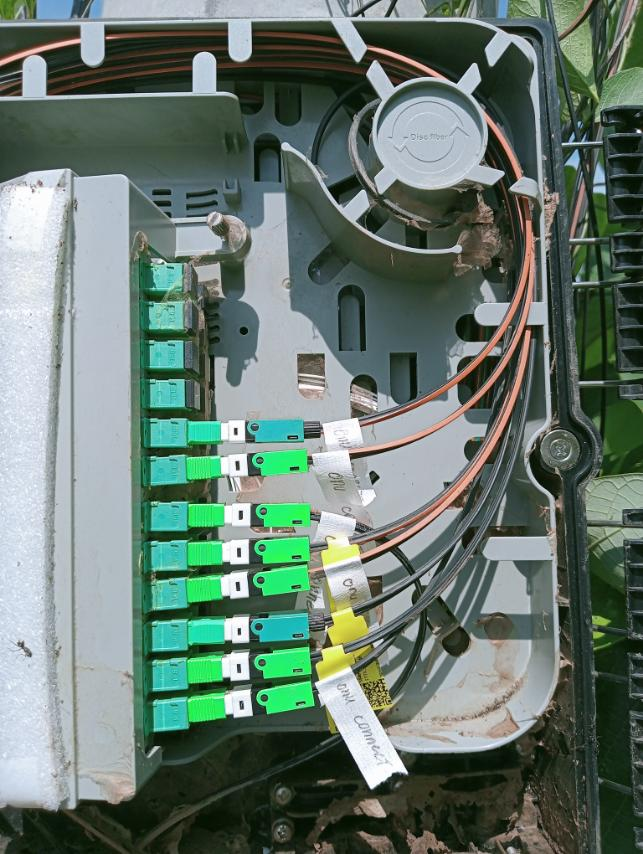occupied: (186, 674, 327, 728), (185, 644, 324, 688), (187, 609, 339, 649), (185, 562, 319, 606), (186, 534, 320, 569), (185, 448, 316, 483), (185, 419, 323, 443), (186, 505, 328, 527)
vacant: (207, 679, 230, 711), (203, 629, 223, 661), (202, 600, 224, 629), (184, 303, 202, 336), (185, 342, 201, 374), (184, 265, 199, 298), (200, 561, 213, 595), (195, 424, 211, 451), (186, 381, 201, 409), (198, 497, 213, 525), (202, 532, 216, 561), (201, 387, 213, 417), (193, 456, 206, 483), (201, 285, 211, 315), (202, 316, 209, 346), (204, 356, 212, 380)
